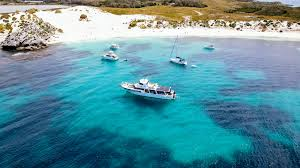boat: (119, 78, 178, 103), (168, 34, 188, 67), (100, 50, 119, 61), (203, 41, 216, 50), (109, 42, 120, 50)
